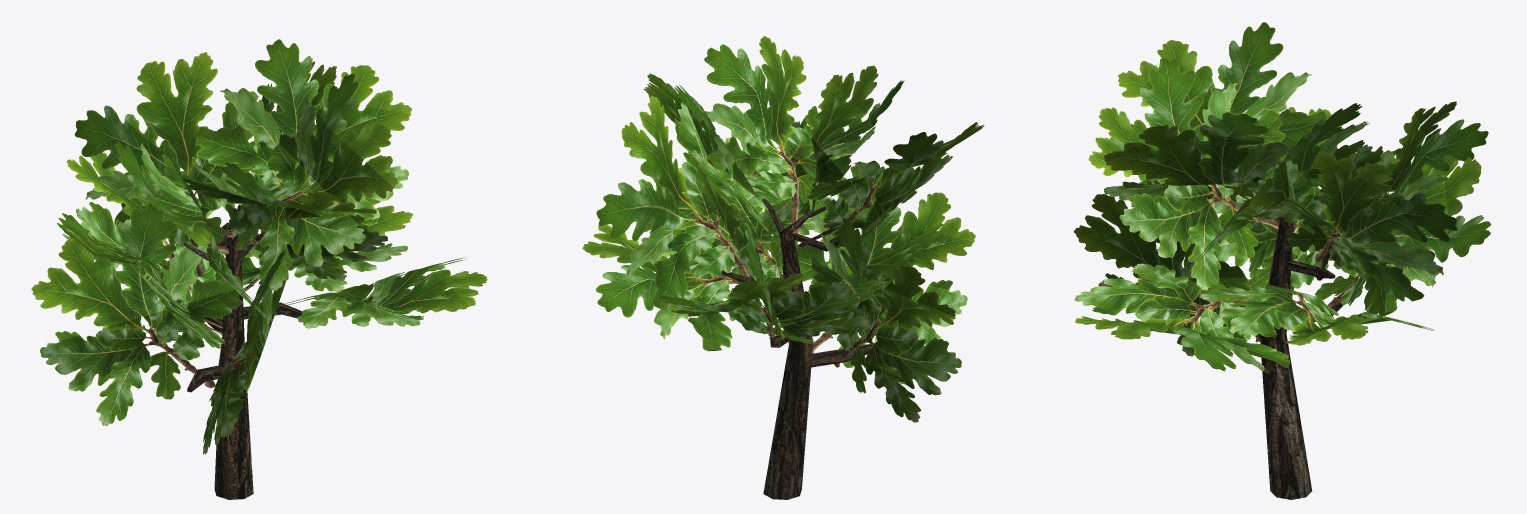
The model's file is tree2.fbx.
3 renders of one model, left to right at view 1: azimuth 30°, elevation 25°; view 2: azimuth 150°, elevation 25°; view 3: azimuth 270°, elevation 25°, orthographic. The views are drawn at different scales.
Visible parts, largest first — view 1: oak branch, oak branch.005, oak branch.009, oak branch.011, oak branch.002, oak branch.010, Cylinder, oak branch.004, oak branch.006, oak branch.001, oak branch.007, oak branch.008 (+1 smaller); view 2: oak branch.003, oak branch.005, oak branch, Cylinder, oak branch.006, oak branch.004, oak branch.001, oak branch.008, oak branch.010, oak branch.009, oak branch.011, oak branch.007 (+1 smaller); view 3: oak branch.003, oak branch.010, oak branch.005, oak branch.002, oak branch.004, Cylinder, oak branch.001, oak branch.009, oak branch.008, oak branch.006, oak branch.011, oak branch.007 (+1 smaller).
Part boxes in pixels (<box>): oak branch: <box>31,202,243,426</box>; oak branch.005: <box>224,73,397,290</box>; oak branch.009: <box>74,52,265,277</box>; oak branch.011: <box>195,39,412,260</box>; oak branch.002: <box>282,257,487,328</box>; oak branch.010: <box>182,162,387,279</box>; Cylinder: <box>184,222,302,499</box>; oak branch.004: <box>115,141,267,317</box>; oak branch.006: <box>203,251,287,454</box>; oak branch.001: <box>66,152,253,319</box>; oak branch.007: <box>57,213,224,348</box>; oak branch.008: <box>214,197,412,291</box>; oak branch.003: <box>596,95,780,310</box>; oak branch.005: <box>704,36,854,233</box>; oak branch: <box>811,217,961,422</box>; Cylinder: <box>721,199,875,499</box>; oak branch.006: <box>778,162,975,385</box>; oak branch.004: <box>798,122,984,248</box>; oak branch.001: <box>658,272,869,343</box>; oak branch.008: <box>582,222,782,351</box>; oak branch.010: <box>759,65,904,232</box>; oak branch.009: <box>688,150,784,339</box>; oak branch.011: <box>643,73,805,229</box>; oak branch.007: <box>760,223,947,333</box>; oak branch.003: <box>1234,151,1457,301</box>; oak branch.010: <box>1088,57,1285,290</box>; oak branch.005: <box>1103,112,1324,206</box>; oak branch.002: <box>1074,263,1290,372</box>; oak branch.004: <box>1110,22,1326,241</box>; Cylinder: <box>1223,202,1343,499</box>; oak branch.001: <box>1311,150,1491,322</box>; oak branch.009: <box>1282,101,1488,262</box>; oak branch.008: <box>1199,280,1433,345</box>; oak branch.006: <box>1073,180,1260,356</box>; oak branch.011: <box>1196,103,1369,262</box>; oak branch.007: <box>1212,107,1399,288</box>.
Size of the model in its own units: 890 by 844 by 839.
